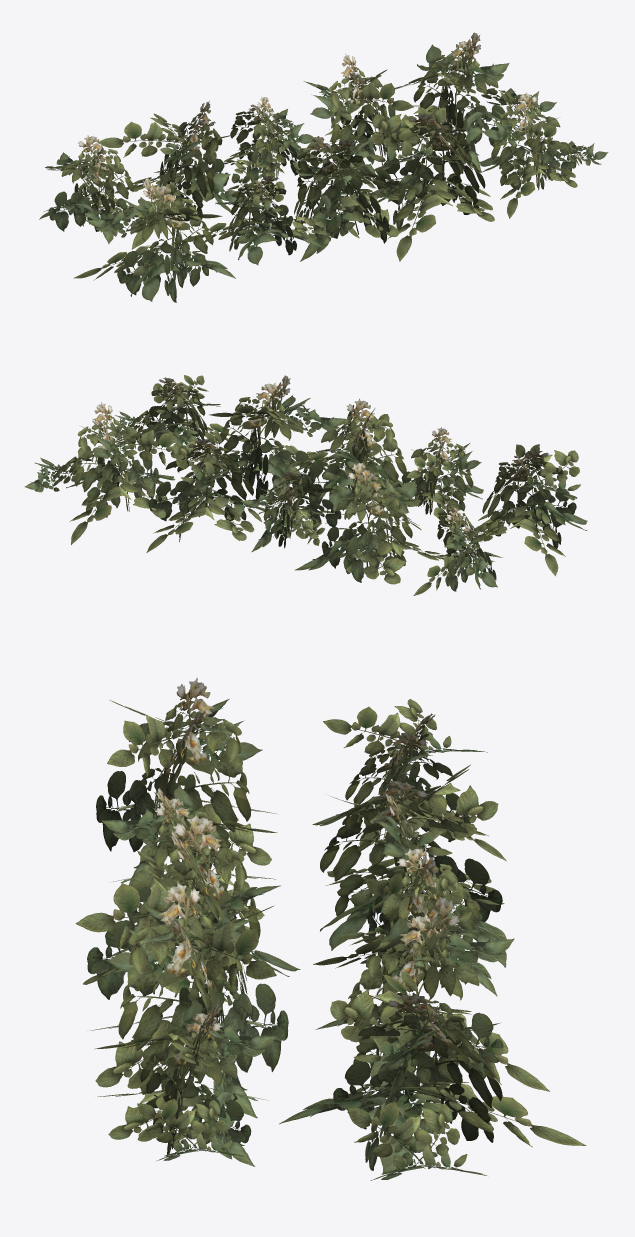
Rendered from bg_anh_foliage_a_crops01_sm_ksy.FBX.
The picture shows the model from 3 angles, top to bottom: view 1: azimuth 30°, elevation 25°; view 2: azimuth 150°, elevation 25°; view 3: azimuth 270°, elevation 25°; orthographic projection. The views are drawn at different scales.
Parts seen in each view (by area): view 1: bg_anh_foliage_a_crops01_sm_ksy; view 2: bg_anh_foliage_a_crops01_sm_ksy; view 3: bg_anh_foliage_a_crops01_sm_ksy.
Boxes of the visible parts, bbox=[...] form: bg_anh_foliage_a_crops01_sm_ksy: bbox=[39, 32, 608, 302]; bg_anh_foliage_a_crops01_sm_ksy: bbox=[24, 375, 587, 595]; bg_anh_foliage_a_crops01_sm_ksy: bbox=[75, 678, 586, 1180].
Size of the model in its own units: 277 by 70.13 by 168.
